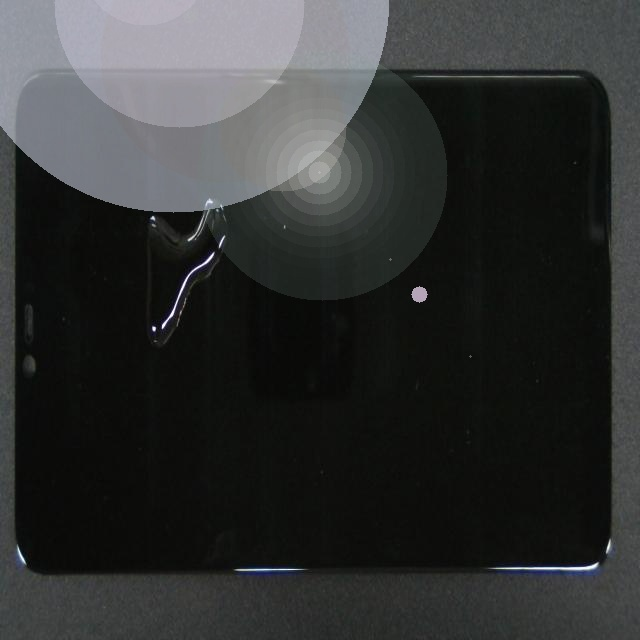oil: (62, 170, 229, 510)
